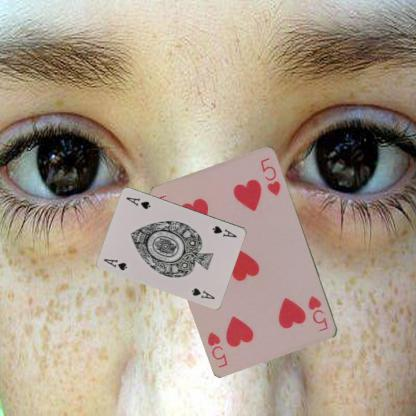5h: (306, 293, 330, 333)
As: (210, 223, 238, 239), (102, 256, 129, 272)
